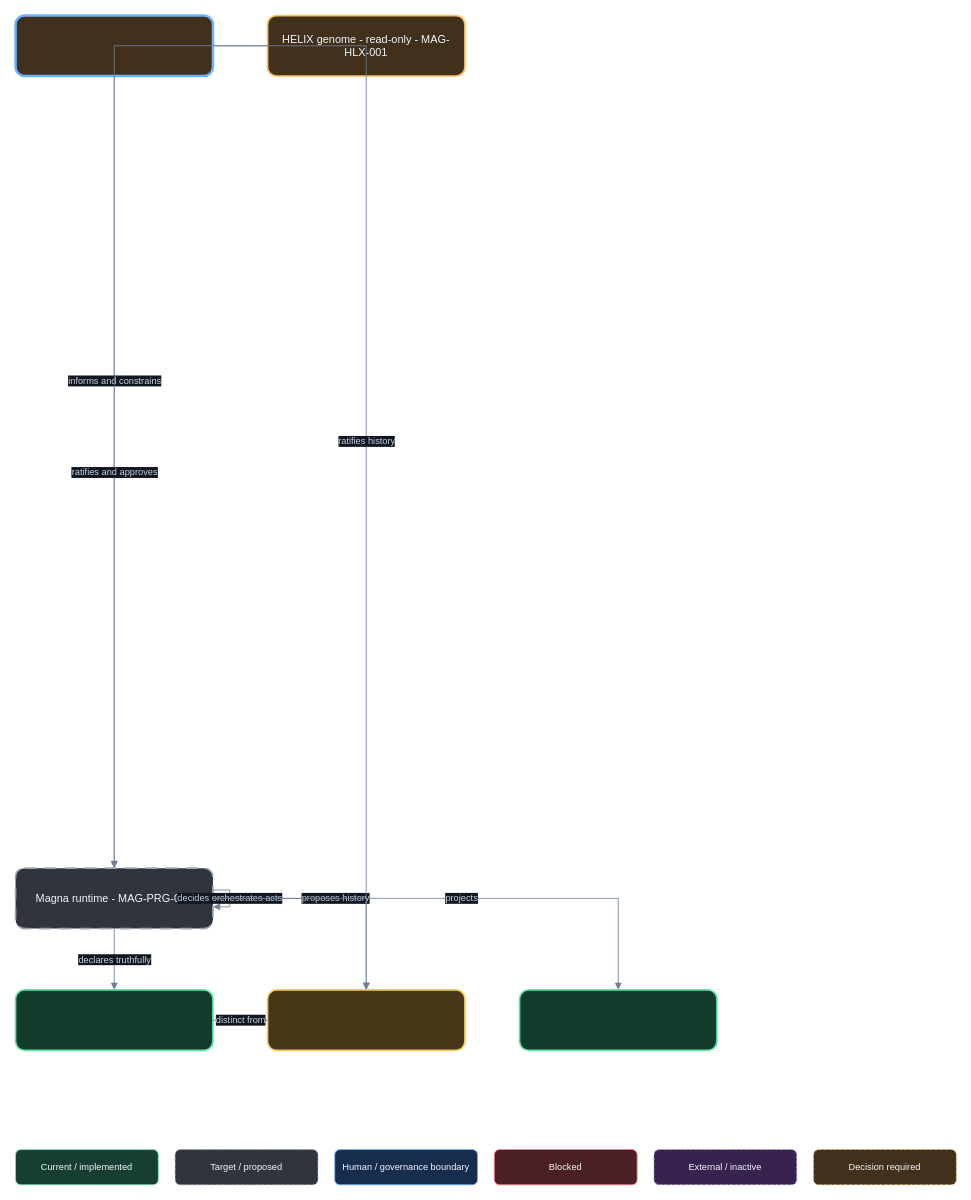
Image size: 971x1200. Some labels were removed from this diagram. The centre of each missing label's shape, as x and y in pixels:
"Cosmos - ratified chronicle - MAG-COS-001" belongs at pixel 365 1020.
"Identity - current self-model - MAG-IDN-001" belongs at pixel 113 1020.
"Presence - UI projection - MAG-EXP-001" belongs at pixel 617 1020.
"Vinay - final authority - MAG-GOV-001" belongs at pixel 114 45.
